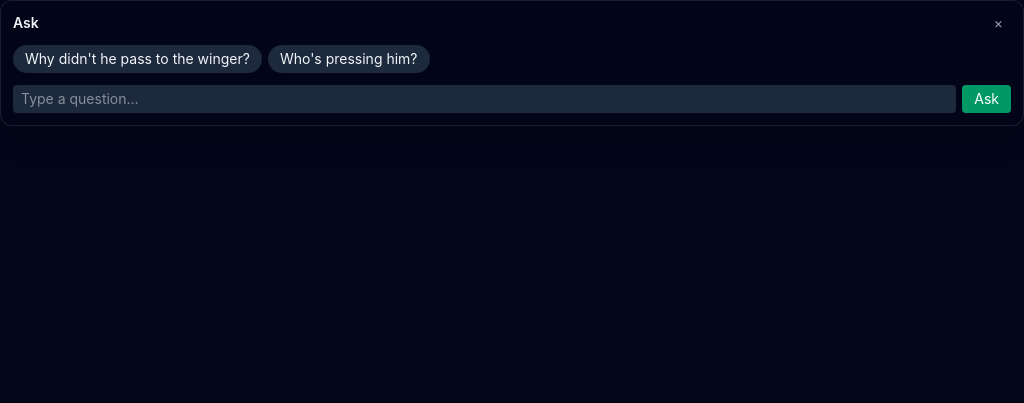
it: the Ask panel › shows Fact-checked only when verified
Click the button "Who's pressing him?".
click(349, 59)  # box [268,45,430,73]
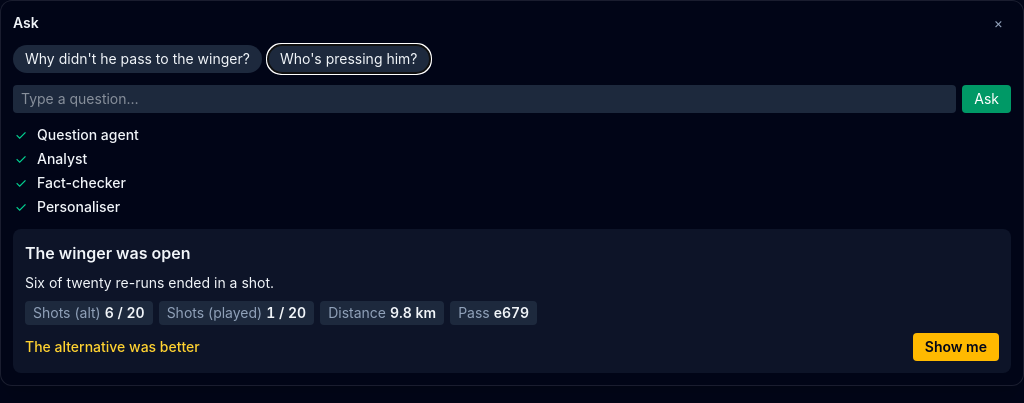
Expected: the text "Fact-checked ✓" is not shown
Click the button "Who's pressing him?".
click(349, 59)  # box [268,45,430,73]
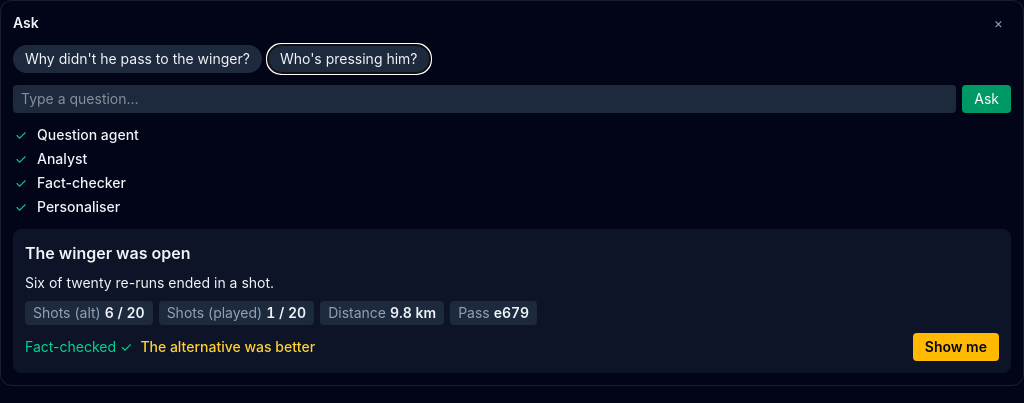
Now the text "Fact-checked ✓" is shown, box [25,337,132,357]
